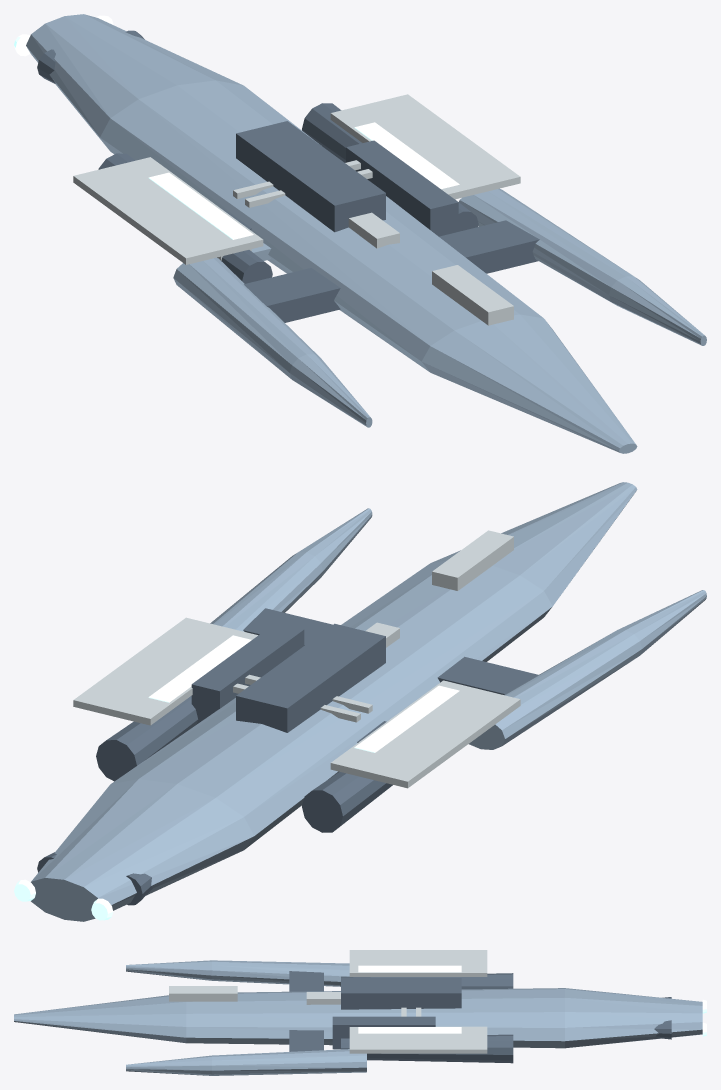
The picture shows the model from 3 angles, top to bottom: view 1: azimuth 30°, elevation 25°; view 2: azimuth 150°, elevation 25°; view 3: azimuth 270°, elevation 25°; orthographic projection. The views are drawn at different scales.
Size of the model in its own units: 5.32 by 1.25 by 14.81.
